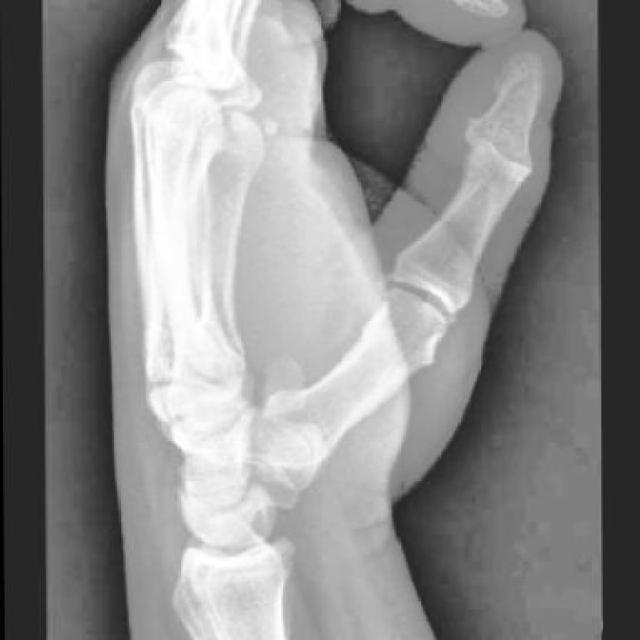Fracture: (139, 357, 238, 440)
